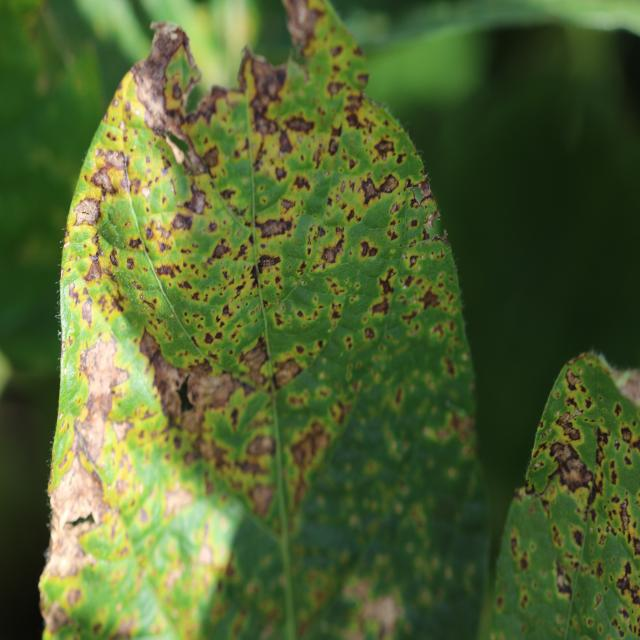Bacterial_Blight: (52, 438, 111, 539), (82, 146, 143, 199), (547, 440, 595, 494), (132, 62, 171, 127), (190, 82, 241, 128), (288, 420, 330, 475), (146, 18, 195, 65), (355, 590, 402, 638), (279, 1, 323, 50), (370, 267, 405, 324), (238, 335, 271, 379), (360, 170, 400, 205), (161, 483, 193, 523), (177, 401, 206, 439), (84, 386, 114, 422), (206, 376, 237, 410), (446, 409, 475, 444), (273, 357, 303, 388), (249, 482, 275, 515), (320, 233, 346, 265), (45, 602, 71, 634), (256, 216, 292, 239), (555, 410, 582, 439), (245, 434, 275, 459), (184, 184, 208, 215), (615, 562, 635, 597), (555, 565, 574, 599), (372, 136, 398, 160), (284, 115, 315, 135), (82, 255, 103, 284), (256, 253, 283, 275), (418, 287, 441, 311), (619, 498, 632, 532), (551, 523, 567, 550), (202, 145, 219, 170), (211, 240, 231, 261), (565, 368, 583, 391), (423, 209, 441, 232), (594, 425, 611, 449), (418, 178, 435, 202), (359, 239, 378, 259), (81, 297, 93, 326), (292, 174, 311, 192), (155, 263, 176, 279), (566, 354, 590, 368), (66, 587, 82, 607), (533, 440, 548, 459), (571, 528, 583, 548), (621, 426, 634, 443), (394, 386, 403, 406), (519, 554, 529, 571), (203, 332, 214, 345), (364, 327, 375, 340), (125, 257, 135, 271), (408, 254, 418, 268), (221, 304, 231, 317), (614, 403, 623, 417), (583, 397, 593, 409), (496, 595, 504, 610), (541, 428, 550, 439), (595, 593, 602, 606), (410, 219, 418, 228), (555, 410, 560, 417), (301, 279, 306, 285)
Soybean: (38, 0, 488, 640)
